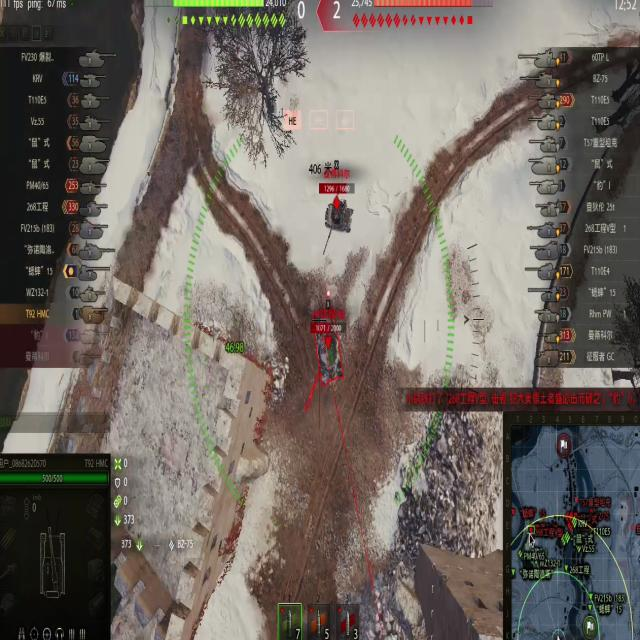tank: (306, 321, 354, 398), (313, 180, 367, 238)
